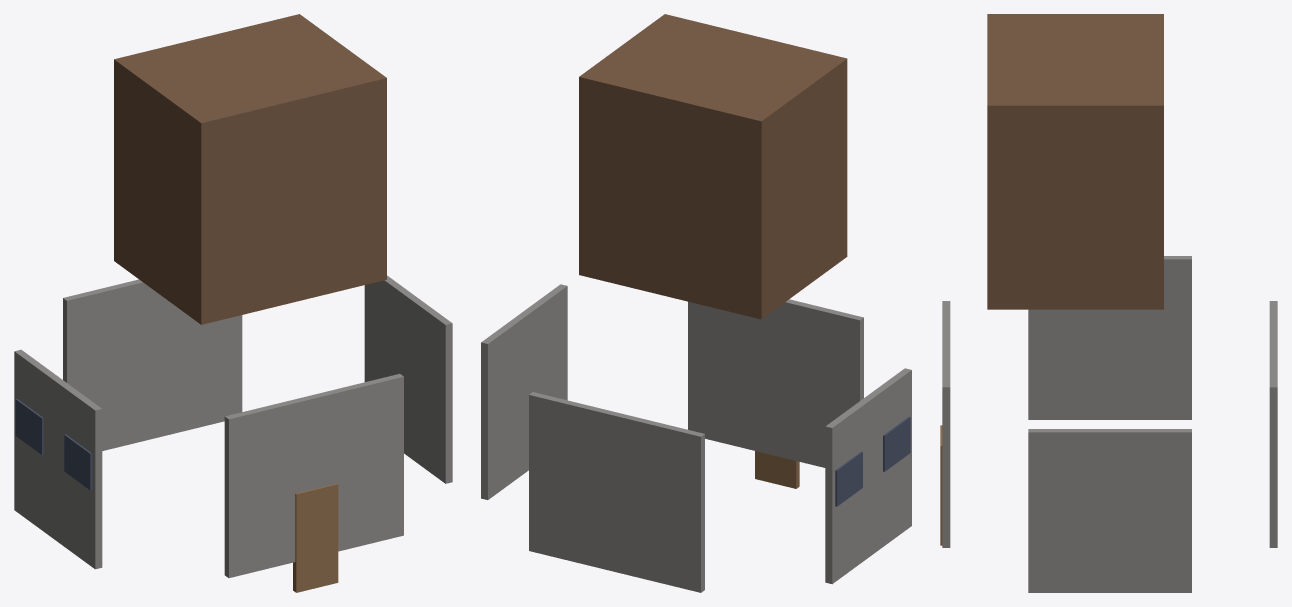
File: maison-nordique-test_v1.glb
The picture shows the model from 3 angles, left to right: view 1: azimuth 30°, elevation 25°; view 2: azimuth 150°, elevation 25°; view 3: azimuth 270°, elevation 25°; orthographic projection. The views are drawn at different scales.
Parts seen in each view (by area): view 1: maison-nordique-test; view 2: maison-nordique-test; view 3: maison-nordique-test.
Boxes of the visible parts, x1,y1,x2,y2 form: maison-nordique-test: (14,14,452,592); maison-nordique-test: (481,14,911,592); maison-nordique-test: (940,14,1277,592).
Bounding box in the file's own units: 3.07 × 3.85 × 2.48.
